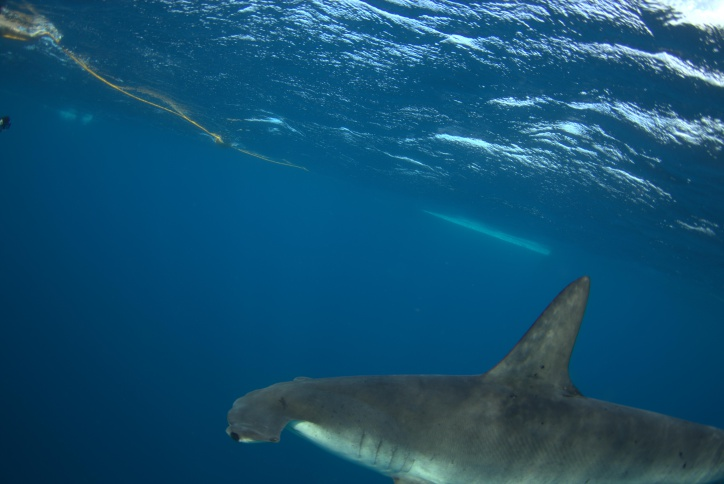Hammer: (225, 274, 724, 482)
